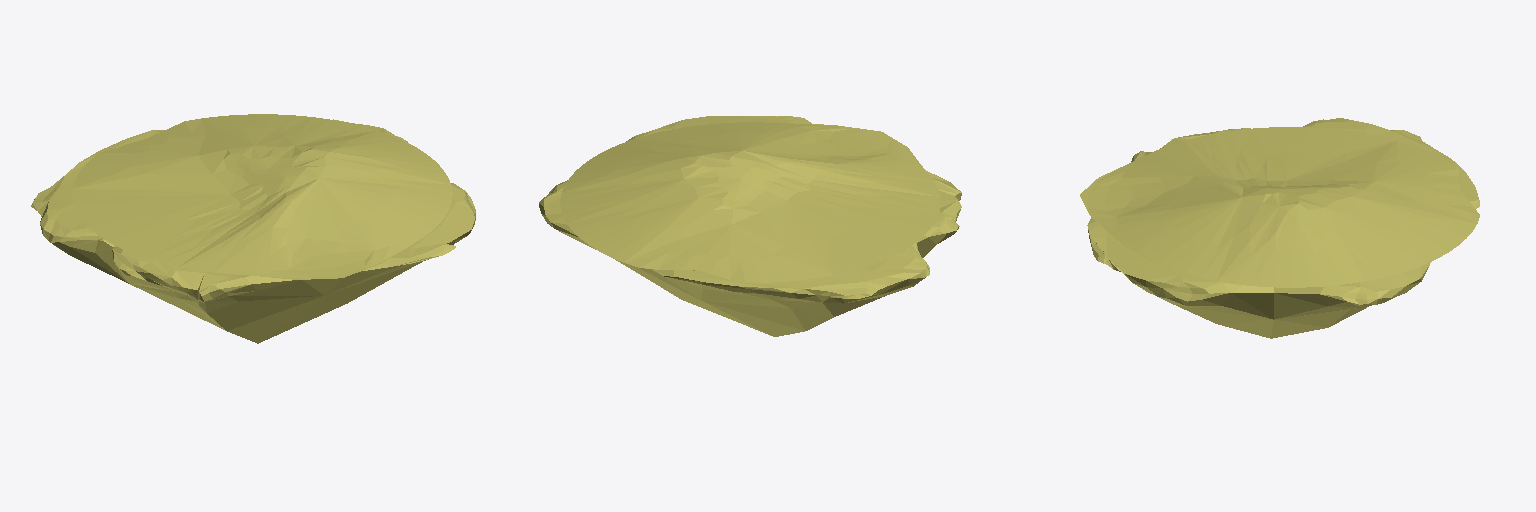
File: islandff.obj
3 views of the same model, side by side, from view 1: azimuth 30°, elevation 25°; view 2: azimuth 150°, elevation 25°; view 3: azimuth 270°, elevation 25° (orthographic).
Visible parts, largest first — view 1: Terrain001; view 2: Terrain001; view 3: Terrain001.
Part boxes in pixels (x1,y1,x2,y2): Terrain001: (31,114,475,343); Terrain001: (539,116,961,336); Terrain001: (1080,118,1479,338).
Bounding box in the file's own units: 251 × 109 × 236.